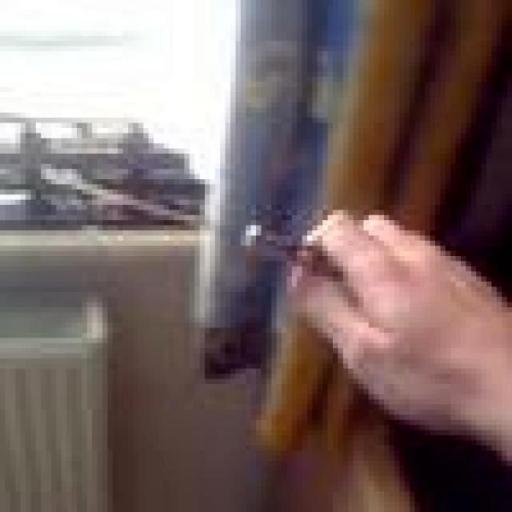knife: (52, 138, 416, 338)
